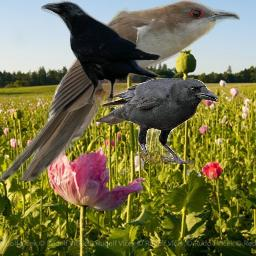Crow: (41, 0, 161, 109), (95, 78, 219, 164)
Cuckoo: (0, 0, 240, 181)
